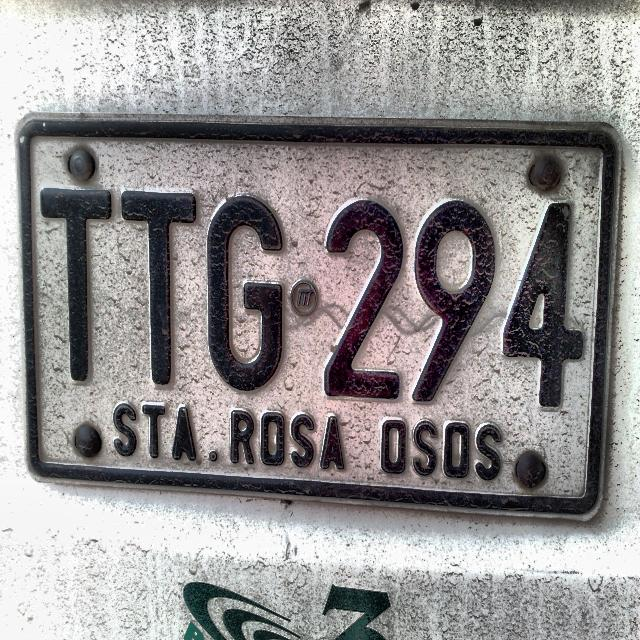plate: (17, 117, 618, 518)
